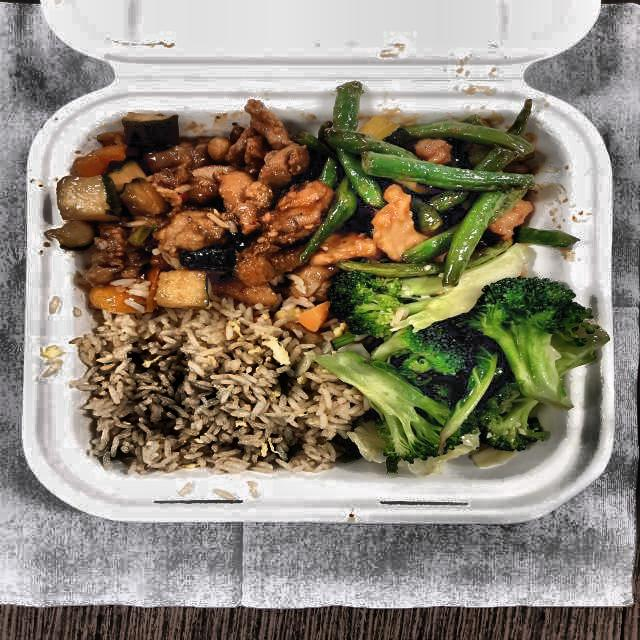Food: (47, 108, 330, 319), (326, 260, 602, 474), (304, 98, 566, 283), (80, 310, 340, 476)
